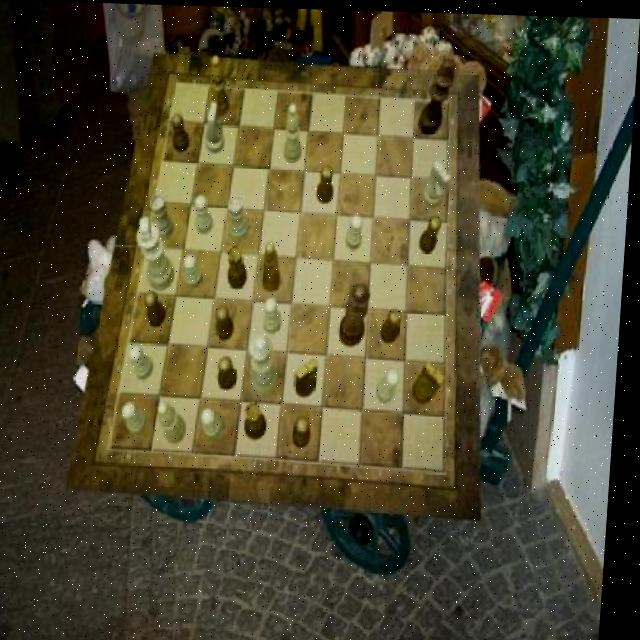bishop: (210, 54, 234, 116), (265, 240, 288, 291)
black-bishop: (420, 55, 458, 133)
black-king: (418, 358, 453, 402), (300, 357, 325, 396)
black-knight: (423, 213, 446, 252), (148, 290, 172, 326), (172, 112, 194, 151), (223, 355, 245, 389), (218, 304, 239, 339), (386, 306, 407, 341), (319, 163, 338, 201), (299, 415, 318, 448)
black-pawn: (341, 280, 374, 345)
black-queen: (230, 241, 253, 287), (250, 400, 275, 439)
black-rook: (162, 400, 193, 443), (286, 102, 306, 163)
white-bishop: (138, 216, 181, 290)
white-king: (425, 159, 455, 208), (208, 102, 229, 155)
white-knight: (126, 400, 155, 435), (133, 345, 159, 380), (196, 194, 218, 233), (381, 366, 405, 401), (206, 407, 229, 440), (187, 254, 208, 288), (268, 296, 287, 333), (348, 213, 367, 248)
white-pawn: (252, 333, 286, 396)
white-queen: (152, 193, 179, 240), (229, 195, 255, 242)
